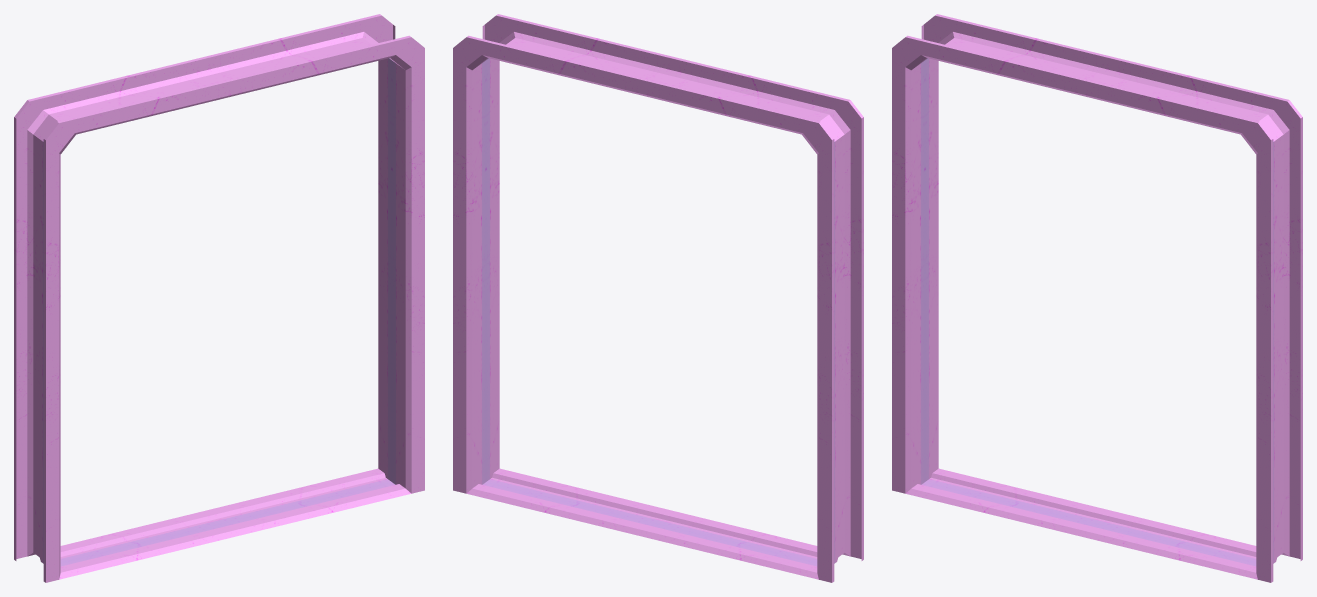
The model's file is DoorFrame_01_SM_Low.fbx.
The picture shows the model from 3 angles, left to right: view 1: azimuth 30°, elevation 25°; view 2: azimuth 150°, elevation 25°; view 3: azimuth 330°, elevation 25°; orthographic projection.
Parts seen in each view (by area): view 1: DoorFrame3, DoorFrame1, DoorFrame2, DoorFrame; view 2: DoorFrame, DoorFrame2, DoorFrame1, DoorFrame3; view 3: DoorFrame2, DoorFrame, DoorFrame3, DoorFrame1.
Boxes of the visible parts, x1,y1,x2,y2 form: DoorFrame3: (14, 57, 218, 563); DoorFrame1: (220, 35, 424, 536); DoorFrame2: (203, 14, 395, 524); DoorFrame: (43, 79, 235, 582); DoorFrame: (659, 57, 863, 563); DoorFrame2: (453, 35, 657, 536); DoorFrame1: (482, 14, 674, 524); DoorFrame3: (642, 79, 834, 582); DoorFrame2: (1098, 57, 1302, 563); DoorFrame: (892, 35, 1096, 536); DoorFrame3: (921, 14, 1113, 524); DoorFrame1: (1081, 79, 1273, 582).
Bounding box in the file's own units: 215 × 248 × 31.19.
